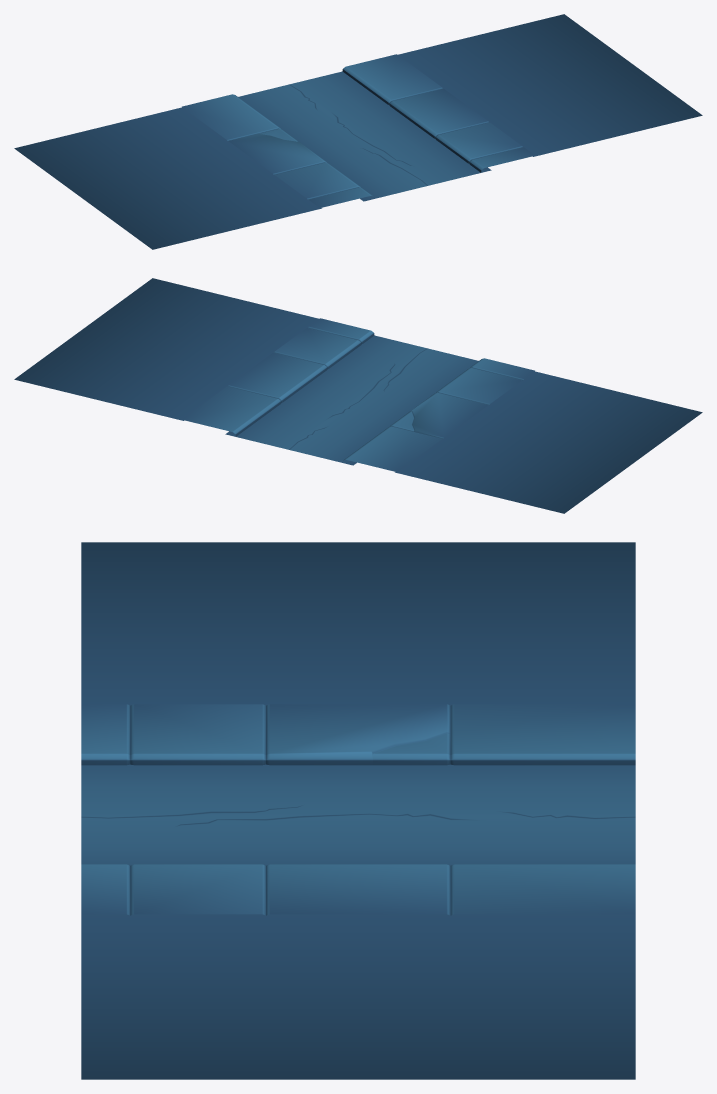
File: Road02Night.glb
3 renders of one model, top to bottom at view 1: azimuth 30°, elevation 25°; view 2: azimuth 150°, elevation 25°; view 3: azimuth 270°, elevation 25°, orthographic. The views are drawn at different scales.
Parts seen in each view (by area): view 1: Road02Night; view 2: Road02Night; view 3: Road02Night.
Boxes of the visible parts, x1=… form: Road02Night: x1=14, y1=14, x2=702, y2=249; Road02Night: x1=14, y1=278, x2=702, y2=513; Road02Night: x1=81, y1=542, x2=635, y2=1079.
Bounding box in the file's own units: 20.62 × 0.1842 × 9.
